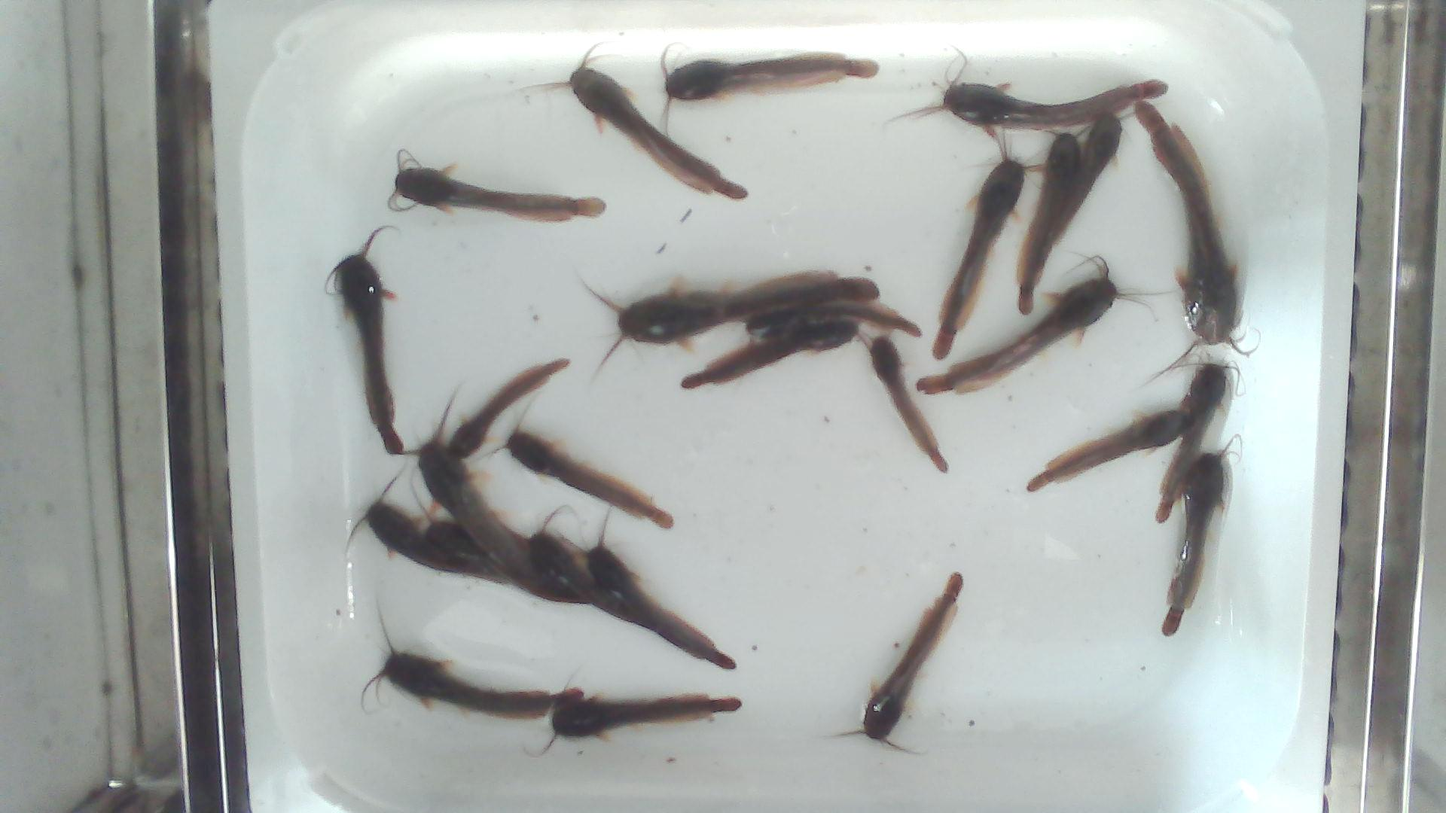lele: (401, 382, 586, 603), (916, 252, 1173, 398), (516, 40, 749, 201), (1134, 99, 1261, 392), (580, 268, 881, 380), (356, 590, 584, 723), (564, 505, 739, 670), (822, 571, 965, 760), (931, 128, 1044, 362), (883, 40, 1170, 132), (477, 397, 676, 528), (660, 39, 879, 135), (323, 226, 408, 457), (386, 146, 608, 224), (345, 471, 496, 584), (527, 500, 653, 632), (1162, 433, 1243, 637), (1016, 127, 1094, 316), (531, 691, 745, 758), (1023, 410, 1193, 493), (859, 330, 950, 475), (1154, 359, 1231, 523), (449, 356, 569, 460), (681, 319, 859, 389), (410, 473, 506, 583), (1054, 115, 1122, 248), (744, 301, 922, 340)
